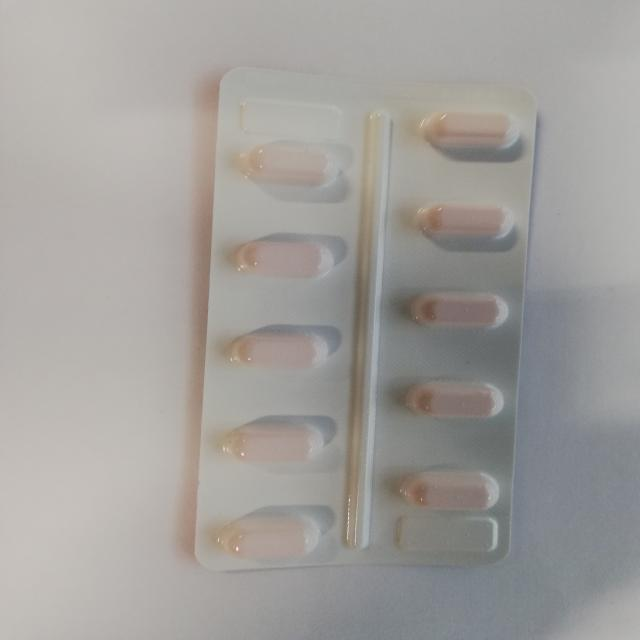Pill: (220, 318, 344, 382), (387, 369, 515, 426), (222, 225, 343, 285), (235, 133, 354, 194), (211, 413, 332, 472), (409, 104, 535, 157), (407, 192, 528, 247), (387, 466, 506, 516), (209, 514, 326, 564), (394, 284, 510, 334)
